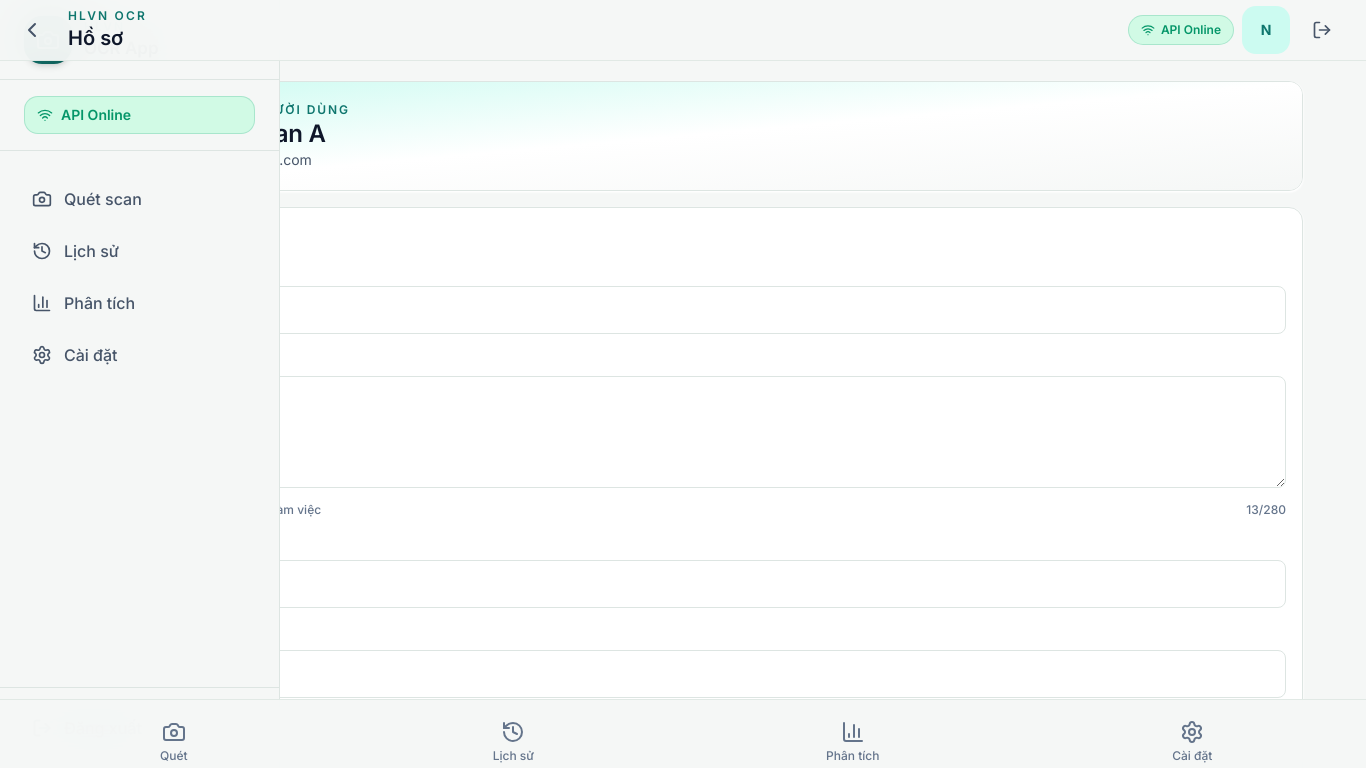
Scenario: ProfilePage › resets form values to persisted profile values
Replace the text in the field labelled "Tên hiển thị" with "Changed" at (683, 310), box [80,286,1286,334]
(page scrolled)
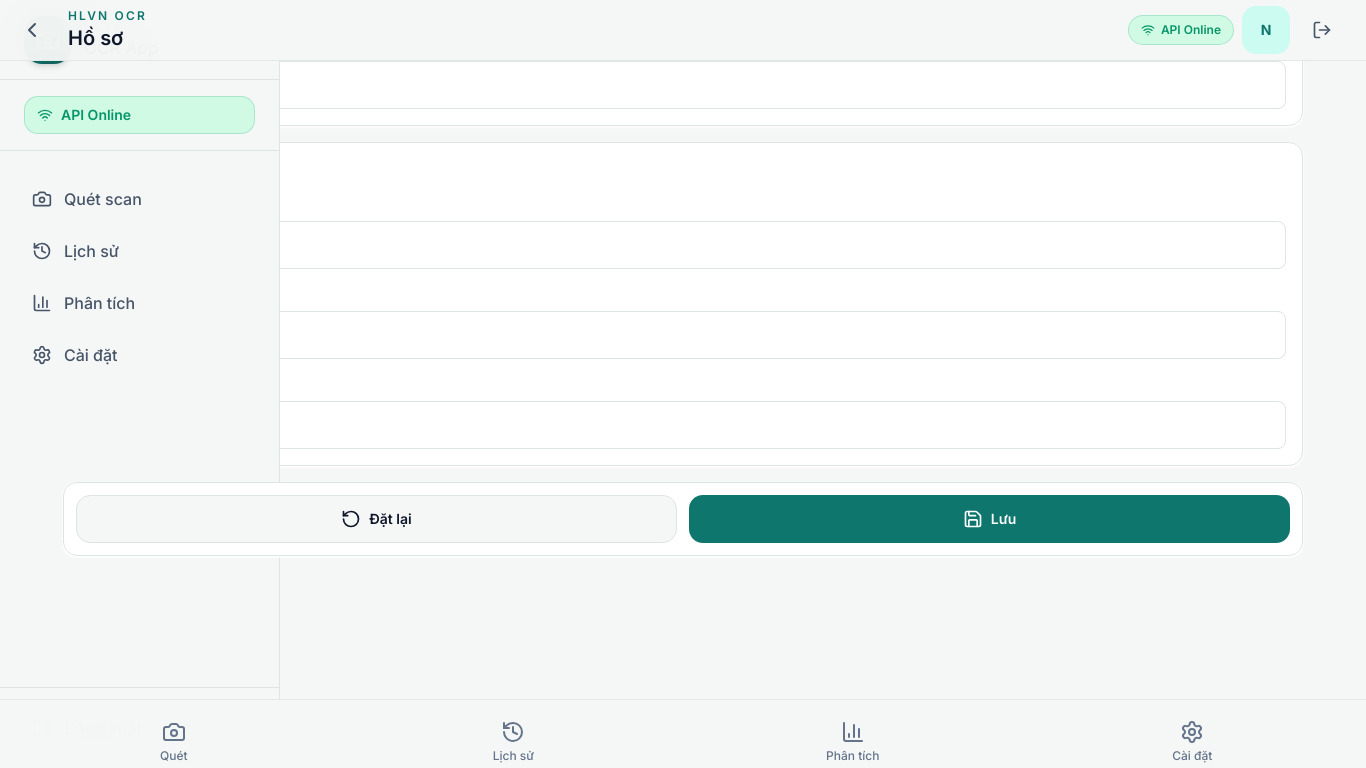
Click the button "Đặt lại" at (376, 519), box [76,495,677,543]
(page scrolled)
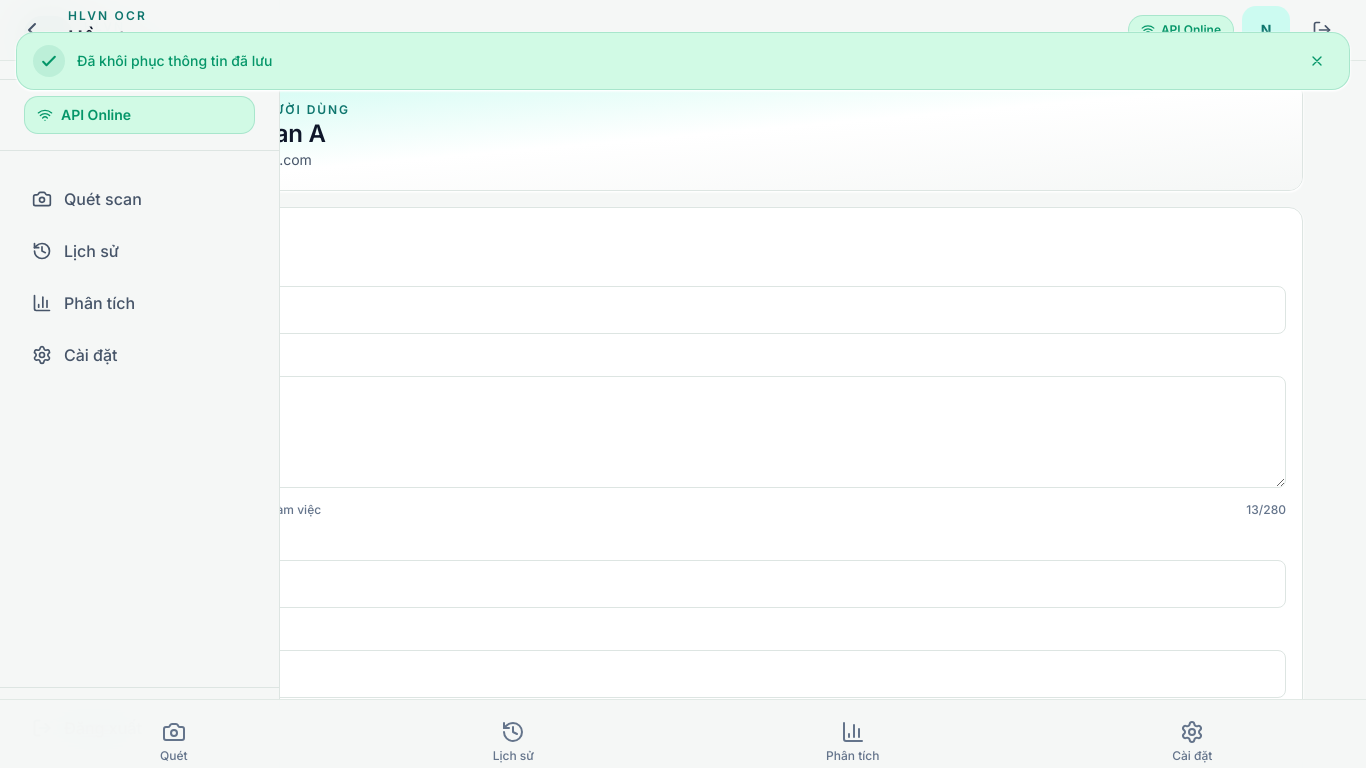
Result: the field labelled "Tên hiển thị" holds "Nguyen Van A" at [80,286,1286,334]
